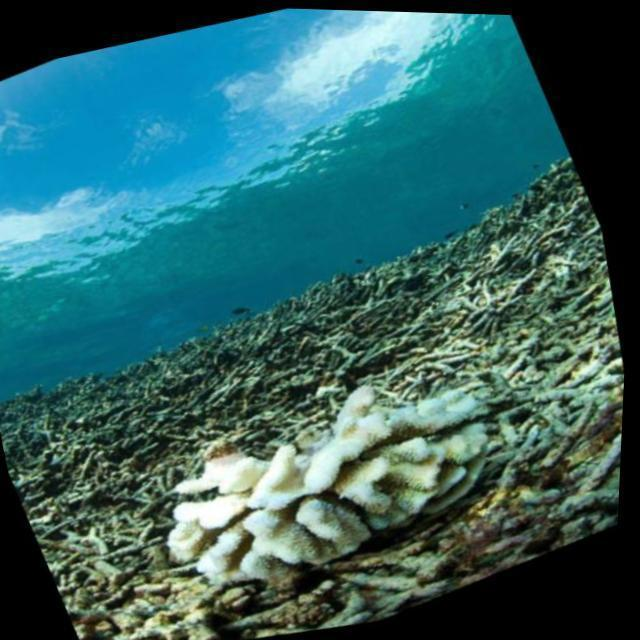Dead Coral: (453, 273, 631, 563), (209, 486, 497, 640), (30, 468, 248, 640), (231, 294, 435, 397)
